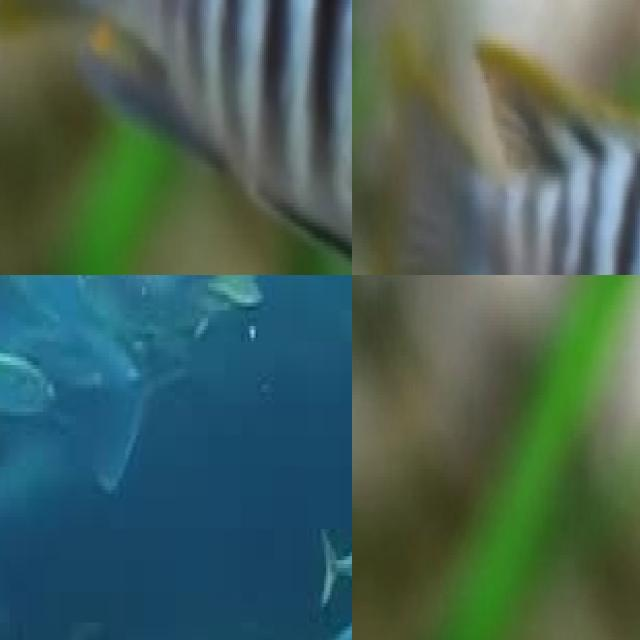fish: (0, 0, 352, 275), (352, 0, 640, 275)
